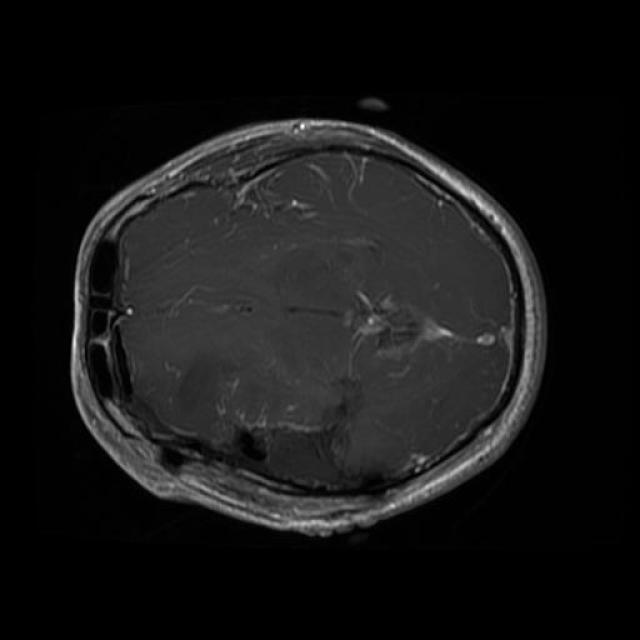Glioma: (233, 425, 361, 490)
